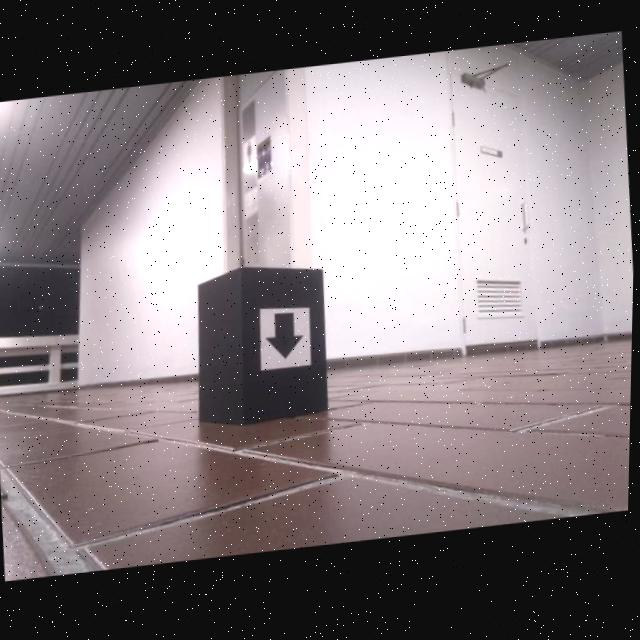DOWN: (265, 315, 307, 363)
